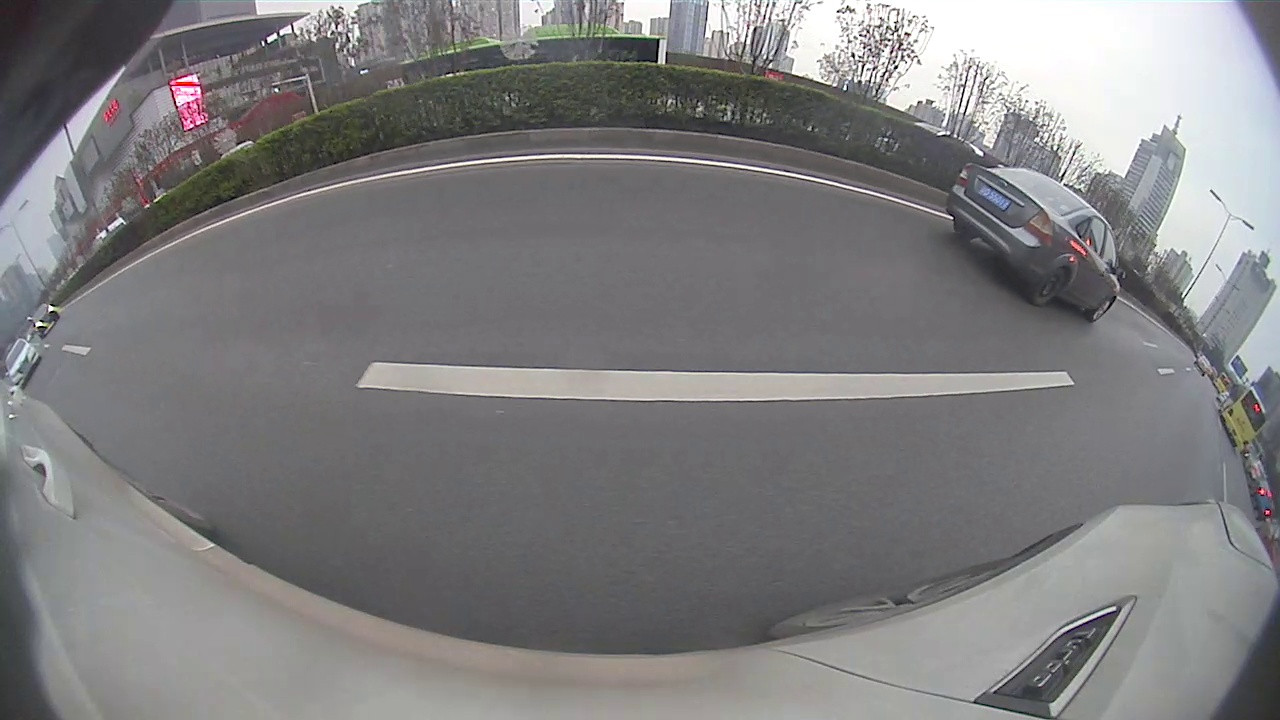bus: (1223, 381, 1270, 448)
car: (948, 164, 1120, 322)
front: (1088, 294, 1115, 322)
rear: (1033, 264, 1070, 307)
